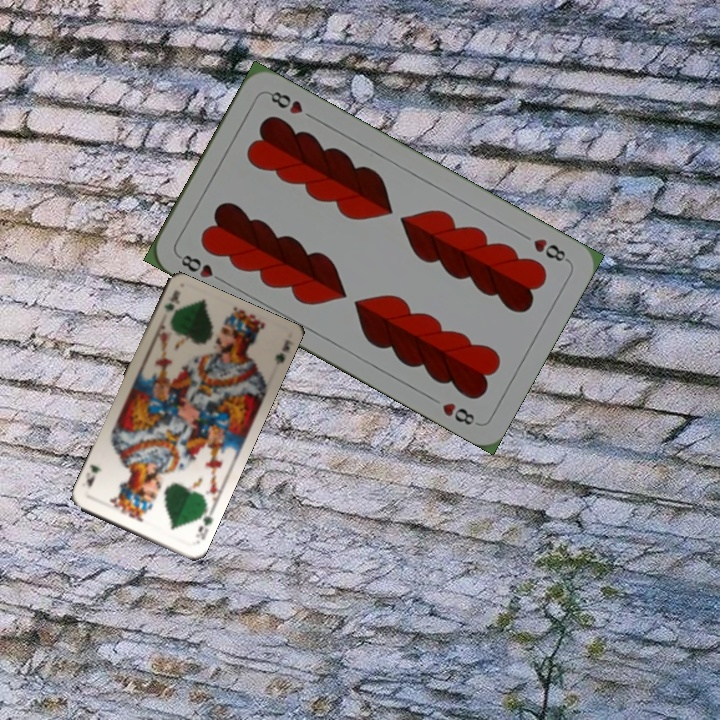GK: (191, 505, 215, 543), (160, 286, 183, 315)
H8: (174, 250, 228, 286), (529, 234, 572, 265)
